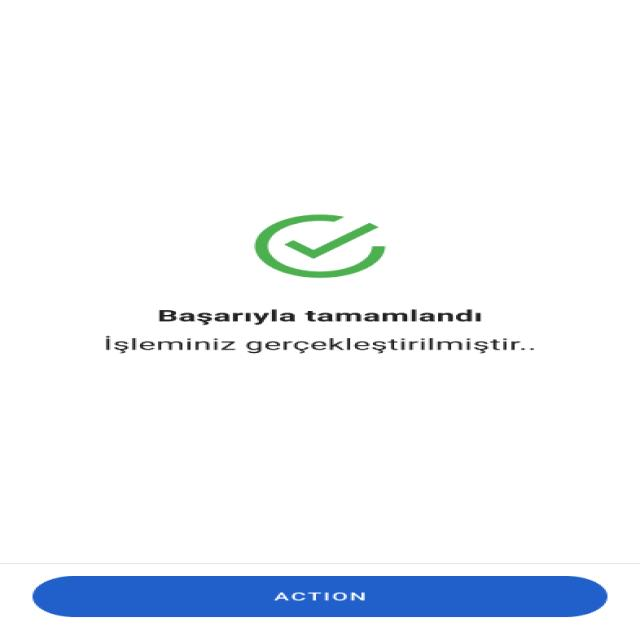QLabel: (96, 335, 542, 356), (148, 306, 491, 326), (266, 591, 370, 603)
VBtn: (34, 576, 607, 618)
VFooter: (0, 562, 640, 640)
VImg: (240, 214, 398, 278)
